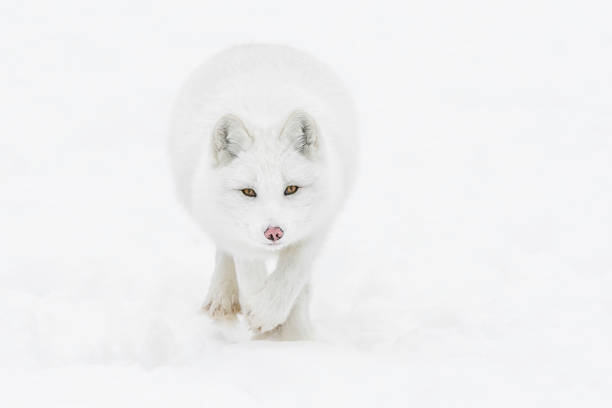arcticfox: (220, 143, 315, 244)
